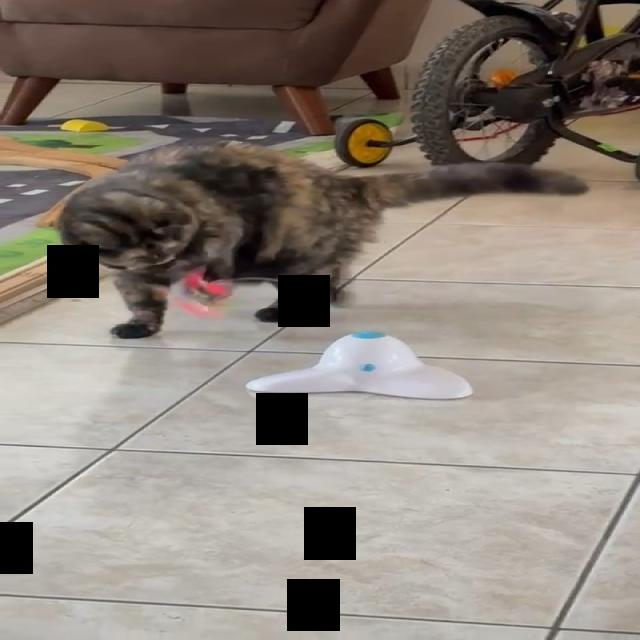authorized: (55, 139, 588, 339)
